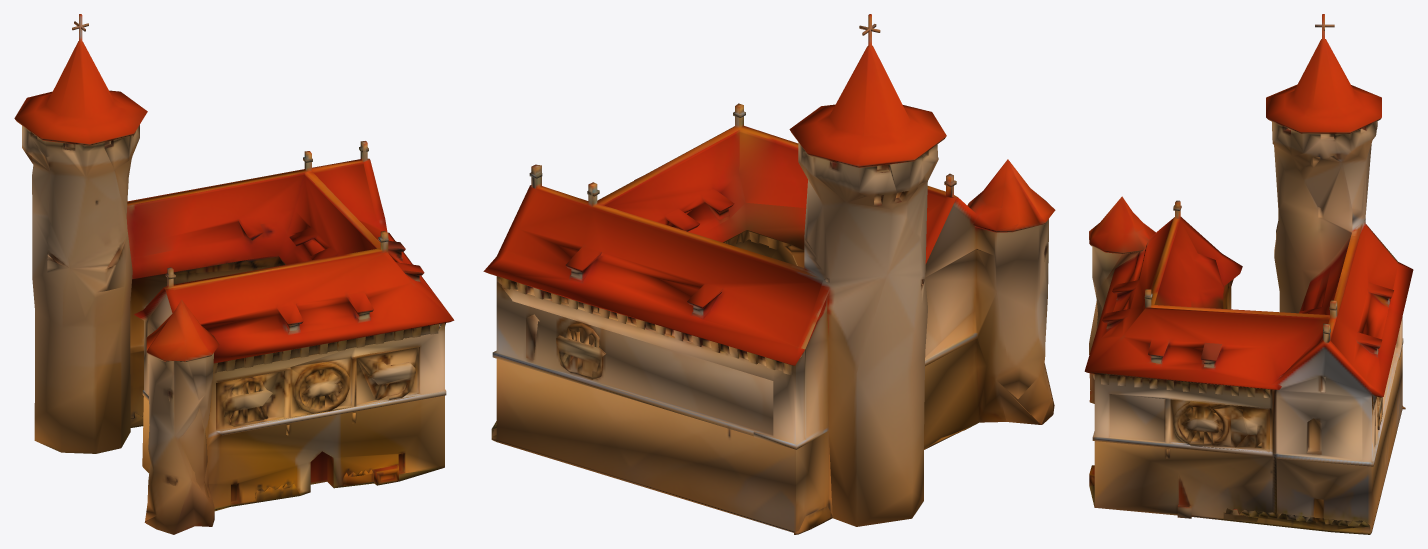
File: farmers_guild.fbx
3 renders of one model, left to right at view 1: azimuth 30°, elevation 25°; view 2: azimuth 150°, elevation 25°; view 3: azimuth 270°, elevation 25°, orthographic. The views are drawn at different scales.
Parts seen in each view (by area): view 1: texture_pbr_v128; view 2: texture_pbr_v128; view 3: texture_pbr_v128.
Part boxes in pixels (left/top/right/bottom): texture_pbr_v128: left=14, top=14, right=454, bottom=534; texture_pbr_v128: left=483, top=14, right=1055, bottom=534; texture_pbr_v128: left=1084, top=14, right=1413, bottom=534.
Size of the model in its own units: 167 by 190 by 147.
1 material, 1 textured.
